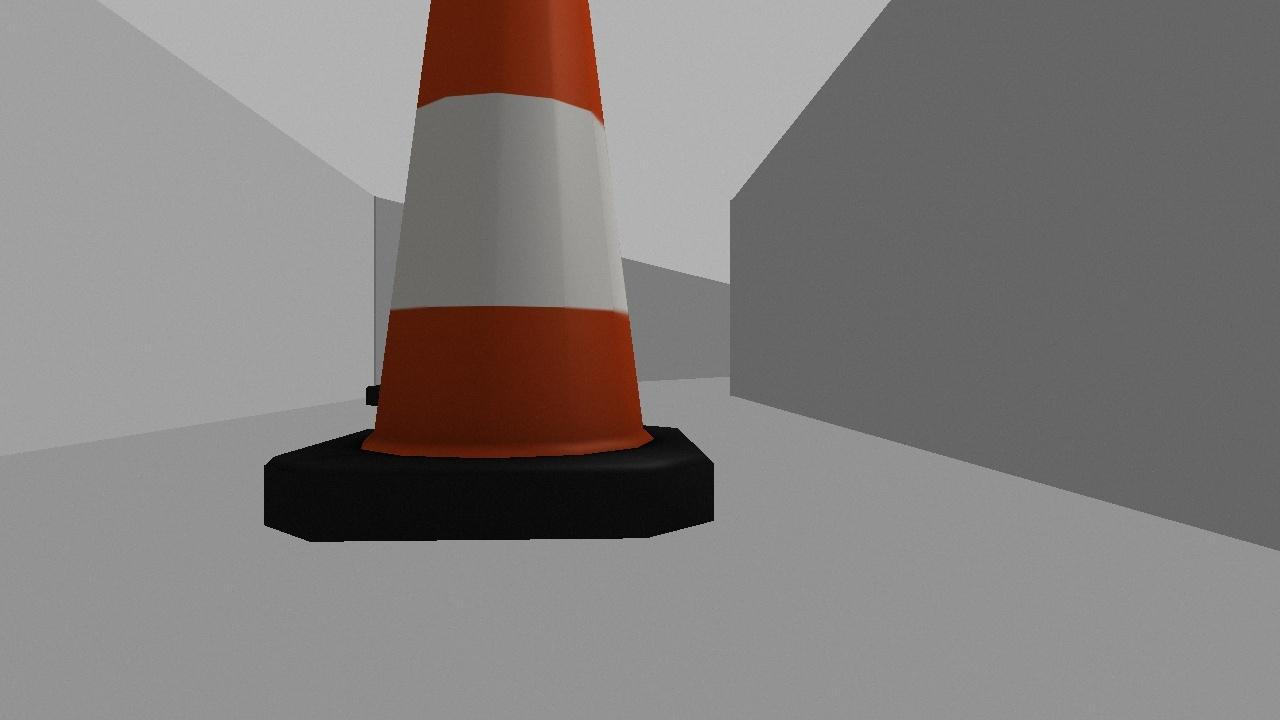cone_barrel: (224, 0, 761, 566)
